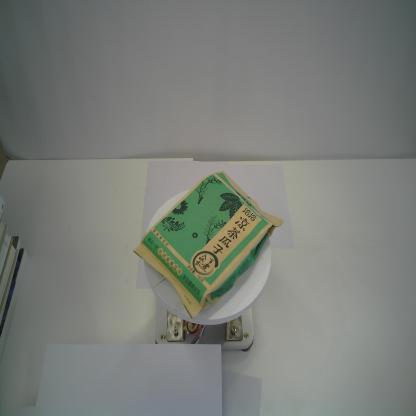Dried Food: (130, 169, 287, 321)
